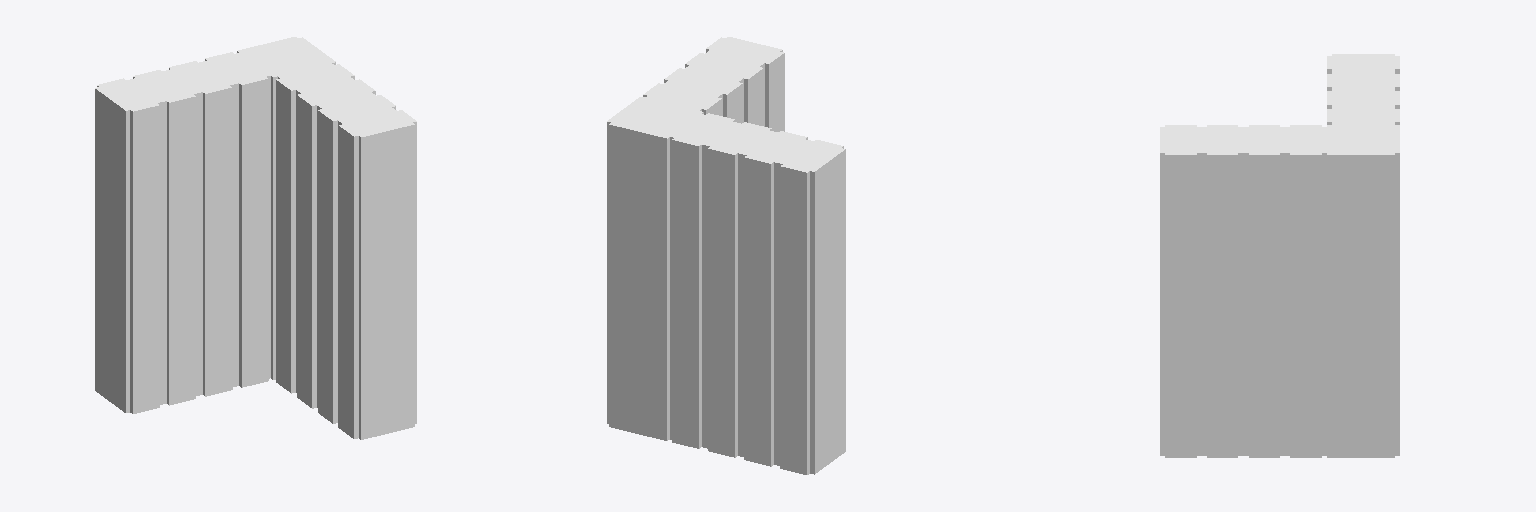
Rendered from MazeWall_norm_02.obj.
3 views of the same model, side by side, from view 1: azimuth 30°, elevation 25°; view 2: azimuth 150°, elevation 25°; view 3: azimuth 270°, elevation 25° (orthographic).
Parts seen in each view (by area): view 1: object 1; view 2: object 1; view 3: object 1.
Boxes of the visible parts, x1,y1,x2,y2 form: object 1: [95, 37, 416, 439]; object 1: [607, 37, 845, 474]; object 1: [1160, 54, 1399, 457].
Bounding box in the file's own units: 4.6 × 6.4 × 4.6.